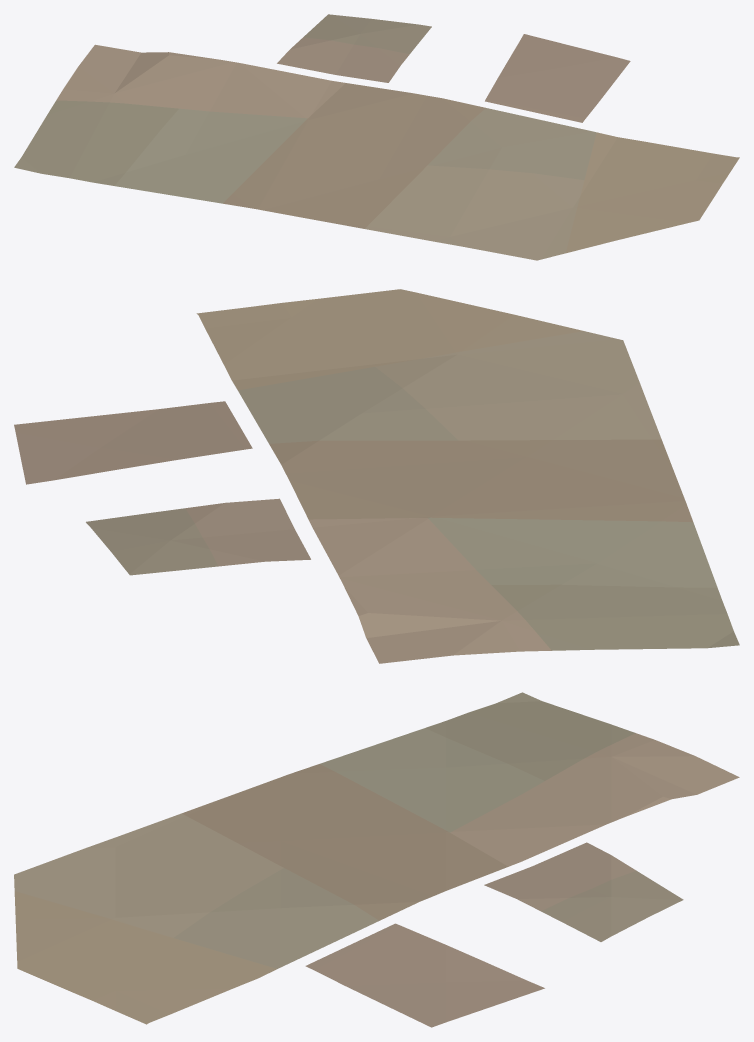
File: farm_28_15_soil.glb
3 views of the same model, one above another, from view 1: azimuth 30°, elevation 25°; view 2: azimuth 150°, elevation 25°; view 3: azimuth 270°, elevation 25° (orthographic). The views are drawn at different scales.
Visible parts, largest first — view 1: geometry_0; view 2: geometry_0; view 3: geometry_0.
Boxes of the visible parts, <box> form: geometry_0: <box>14,14,739,260</box>; geometry_0: <box>14,289,739,663</box>; geometry_0: <box>14,692,739,1027</box>.
Size of the model in its own units: 376 by 15.67 by 351.
